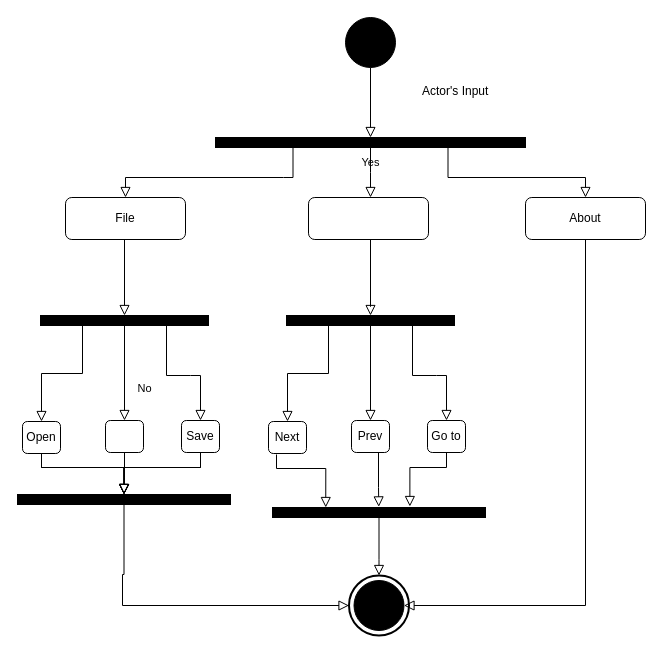
Image size: 663x654. Some labels were removed from this diagram. Here are the shapes that lost their labels. From the top down, the centre of each, then its label:
At [368,218]: "View".
At [124,436]: "New".
